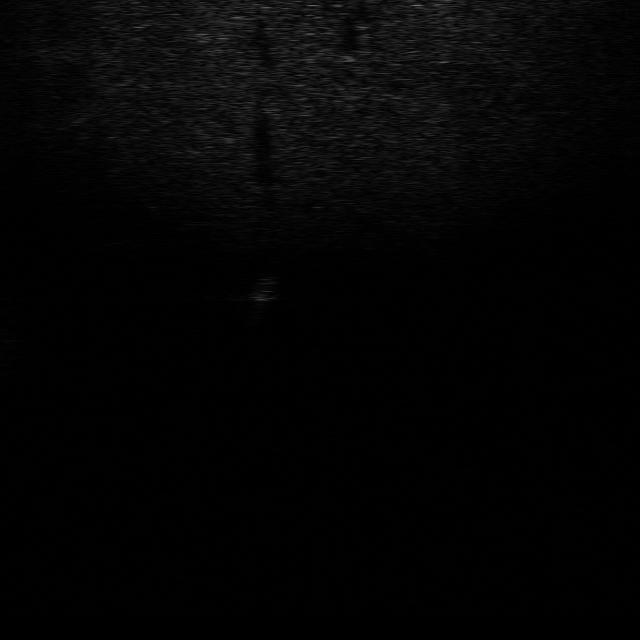human body: (241, 266, 280, 328)
